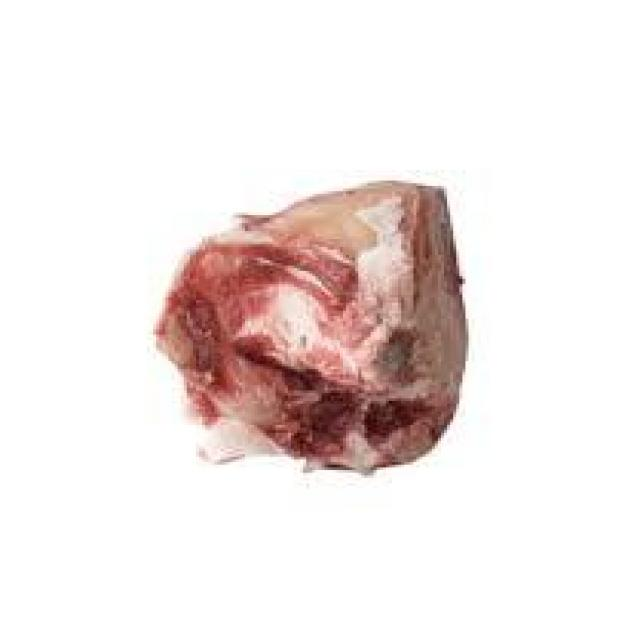Beef: (182, 174, 478, 484)
